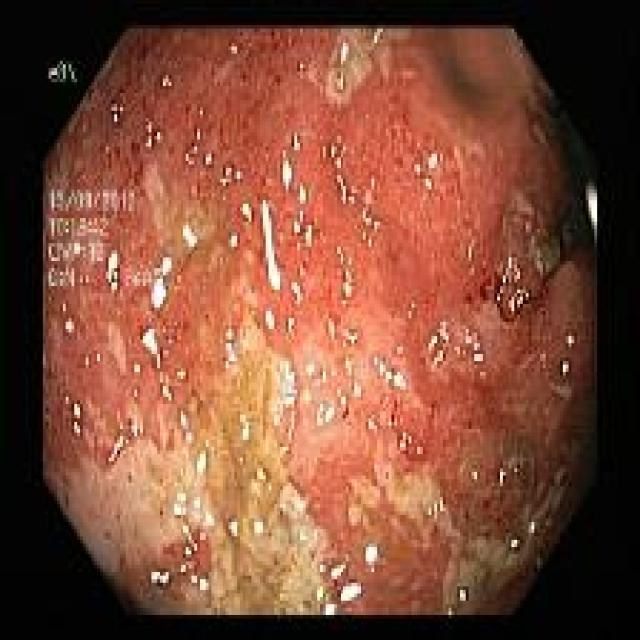ulcerative-colitis: (45, 28, 596, 616)
